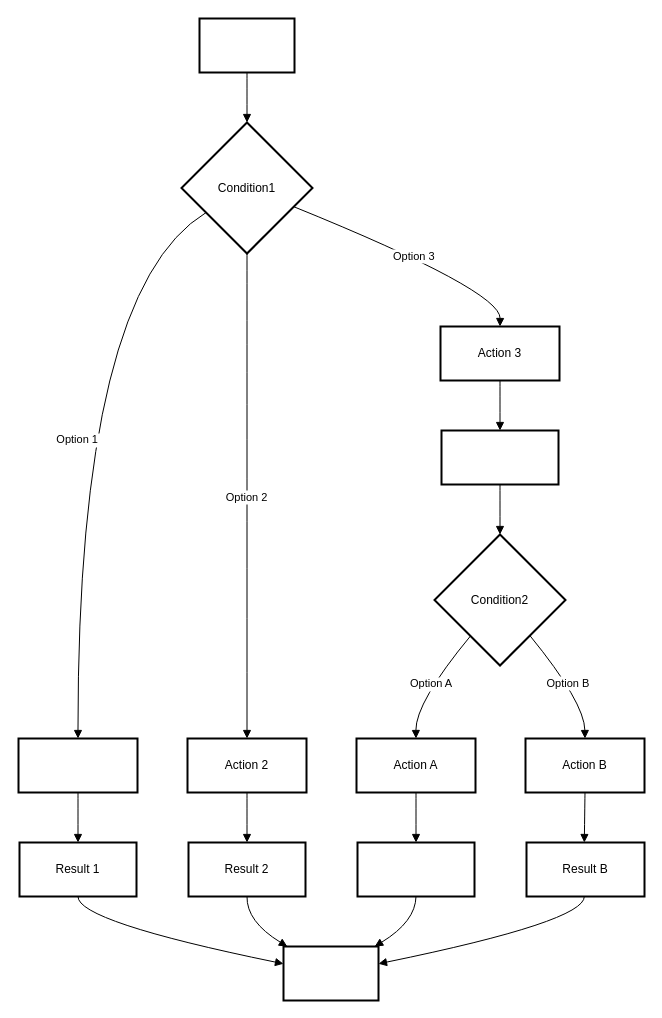
This 662x1018 diagram has some shape labels left out. The shapes that lost their labels are listed below. From the top down, each one's centre as x and y in pixels, then its label:
At (x=246, y=45): "Start".
At (x=499, y=457): "Result 3".
At (x=77, y=765): "Action 1".
At (x=415, y=869): "Result A".
At (x=330, y=973): "End1".
